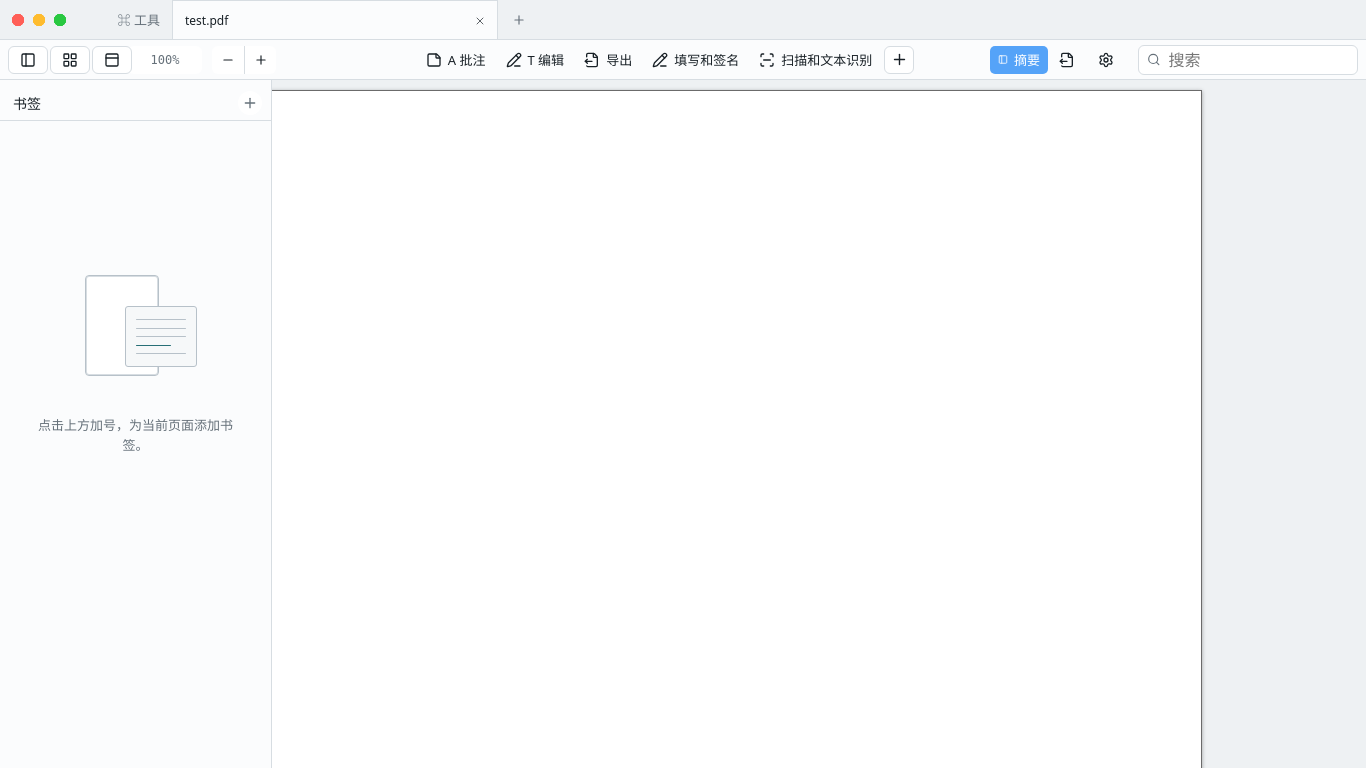
AppShell M4：页面书签闭环 › utilityPanel=bookmark 时可添加、跳转和删除页面书签
expect the element with test id "bookmark-panel" is shown: met, box left=0, top=80, right=272, bottom=767
expect the text "点击上方加号，为当前页面添加书签。" is shown: met, box left=28, top=415, right=243, bottom=455
Click the button named "添加当前页书签": click(250, 103) left=238, top=91, right=262, bottom=115
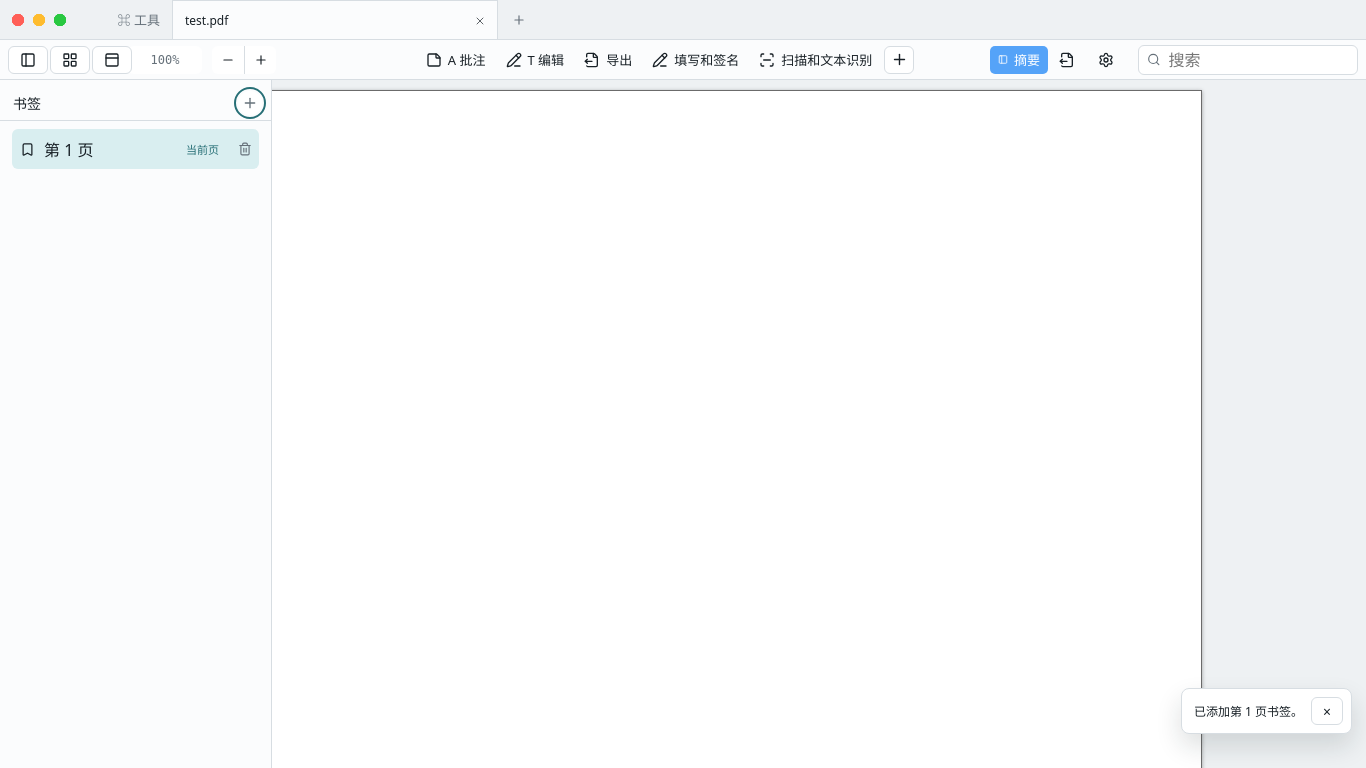
expect the button with aria-label "跳转到第 1 页" is shown: met
Click the button with aria-label "跳转到第 1 页": click(120, 149) left=12, top=129, right=227, bottom=169
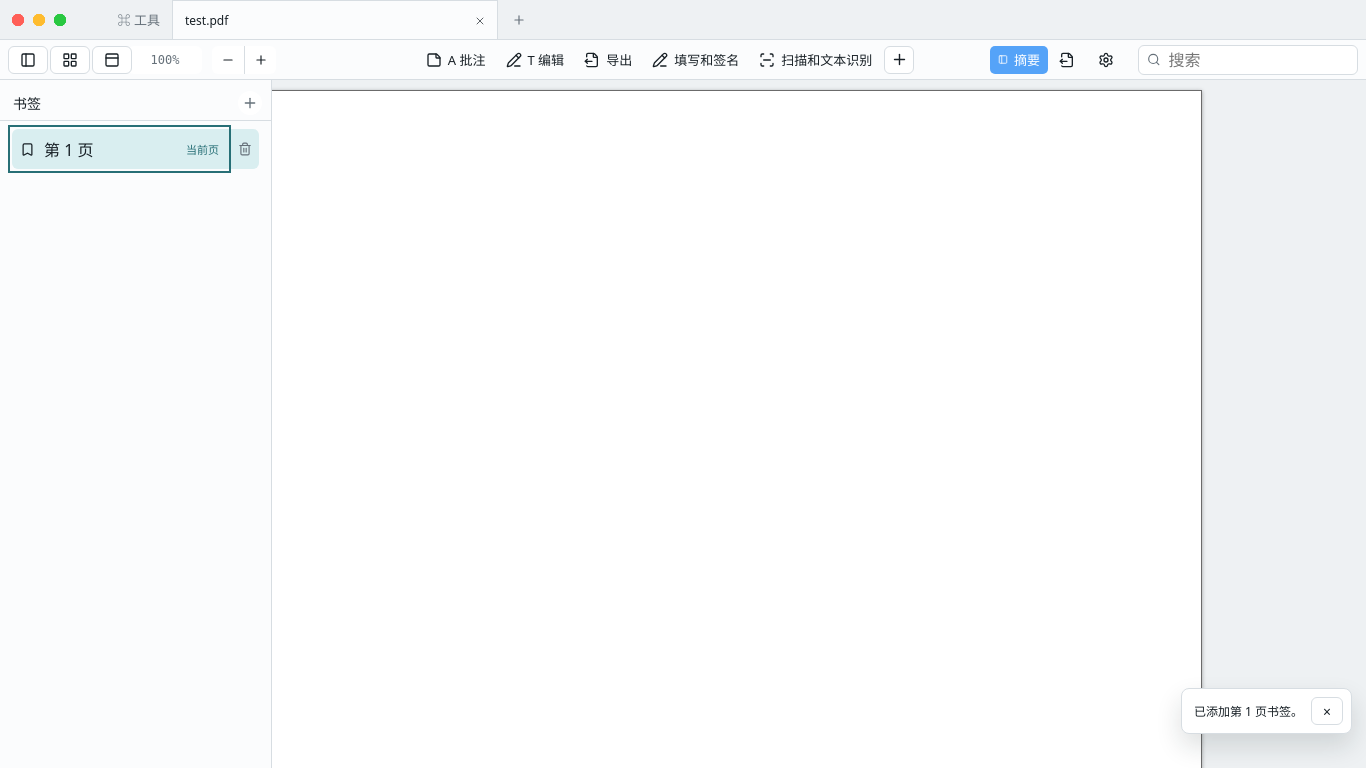
Click the button named "删除第 1 页书签": click(245, 149) left=231, top=135, right=259, bottom=163
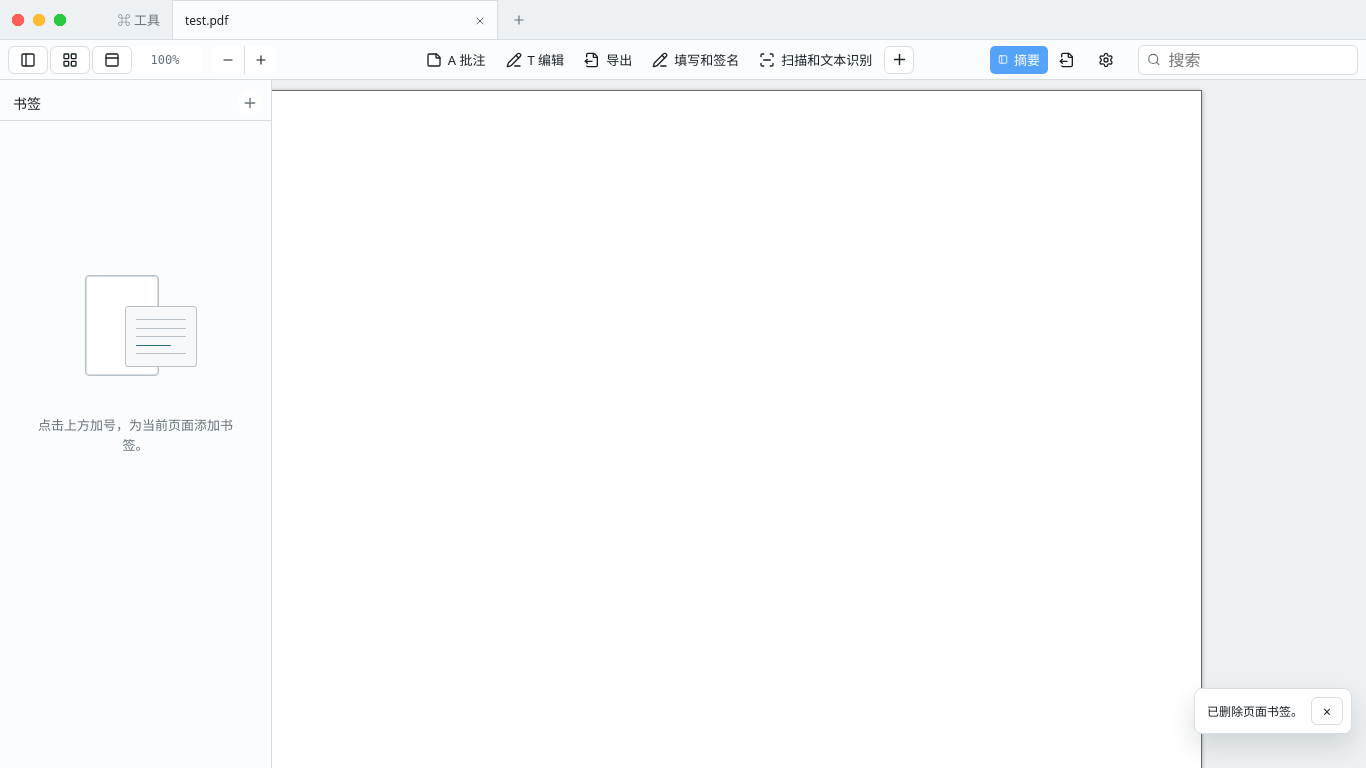
expect the list with test id "bookmark-list" is gone: met
